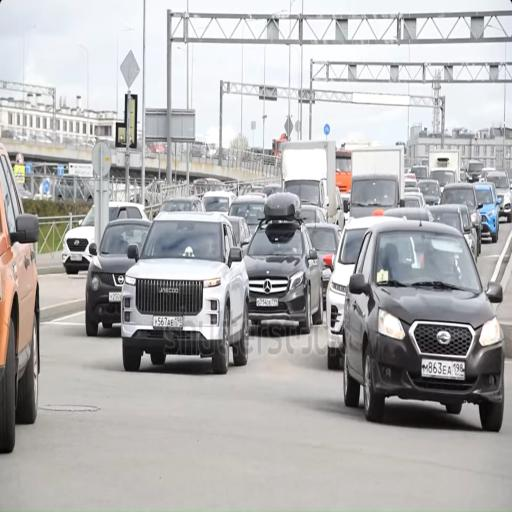License plates: (422, 359, 465, 380), (153, 316, 183, 329), (256, 298, 278, 307), (109, 293, 121, 302), (71, 254, 82, 261)
